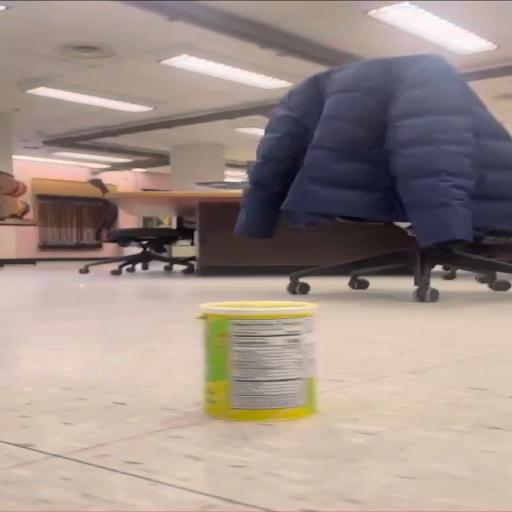pringle can: (196, 297, 320, 422)
